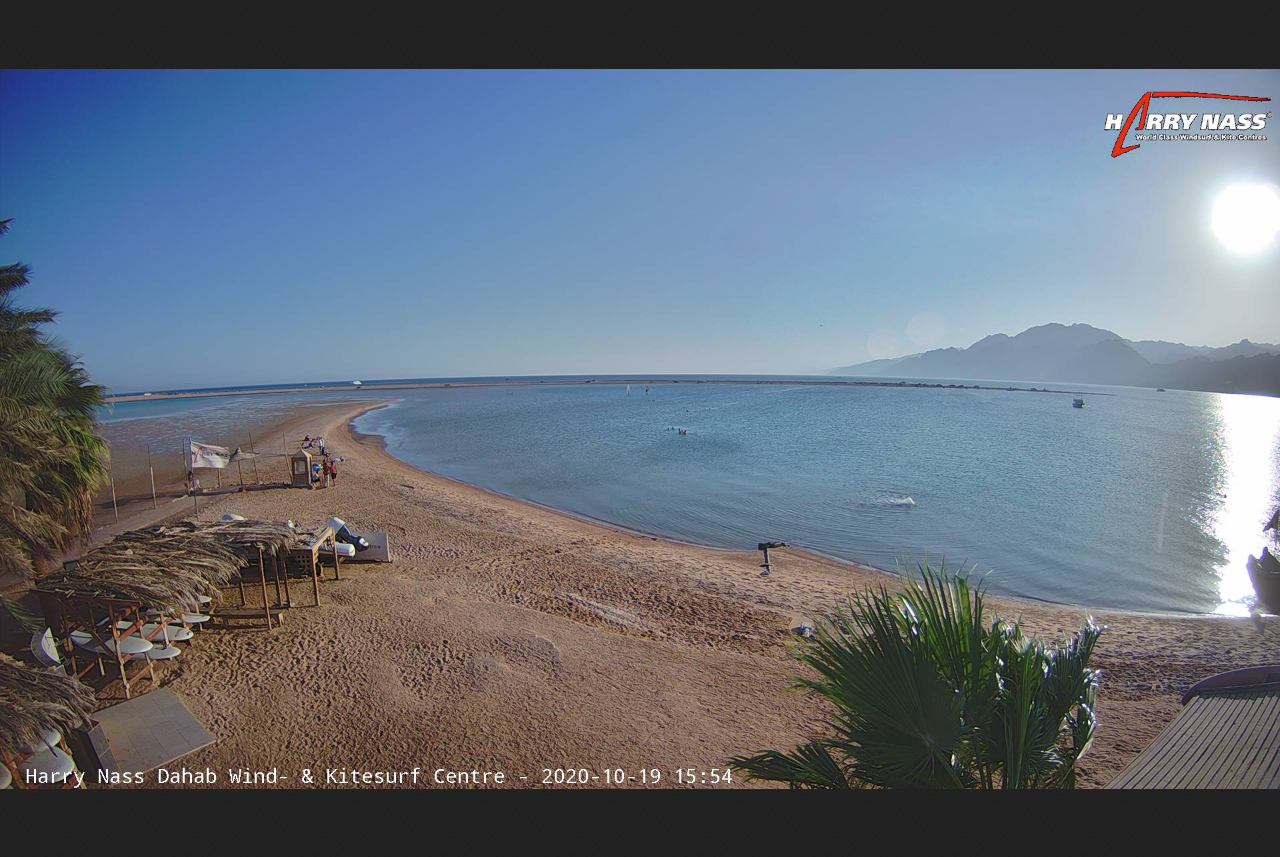no: (188, 440, 236, 475)
